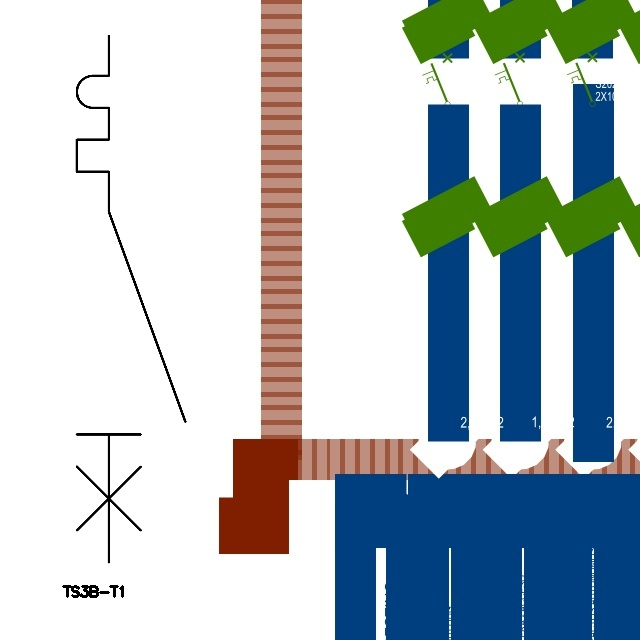interruptor_termomagnetico: (63, 22, 198, 576)
